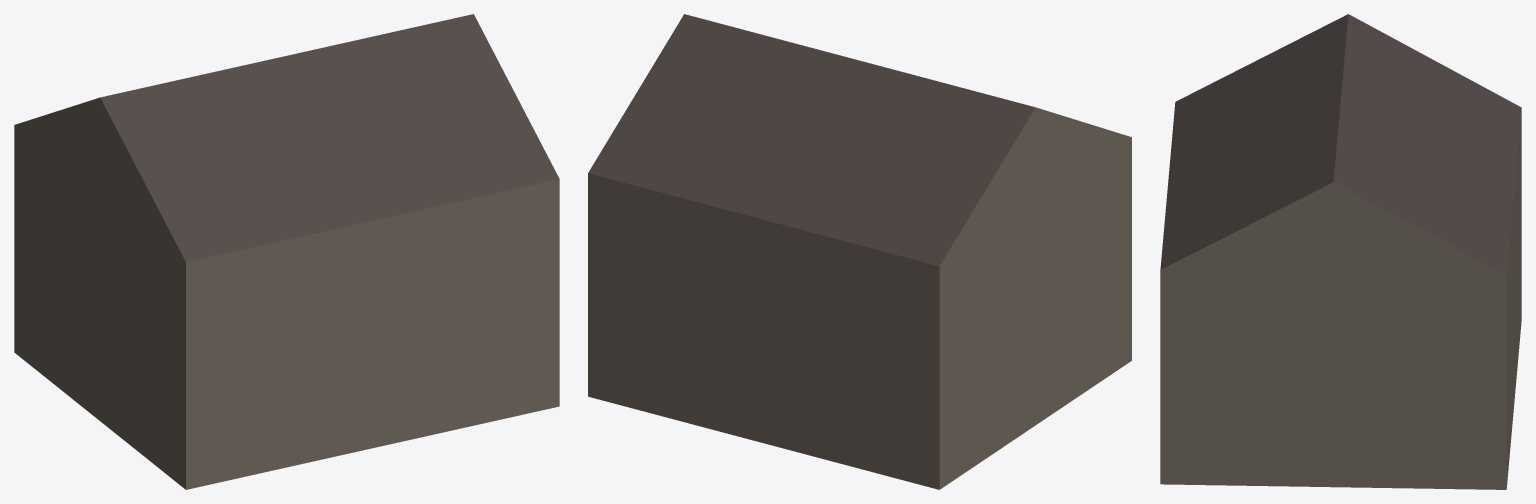
The picture shows the model from 3 angles, left to right: view 1: azimuth 30°, elevation 25°; view 2: azimuth 150°, elevation 25°; view 3: azimuth 270°, elevation 25°; orthographic projection. The views are drawn at different scales.
Visible parts, largest first — view 1: HP-w858824305; view 2: HP-w858824305; view 3: HP-w858824305.
Part boxes in pixels (bbox=[...]): HP-w858824305: bbox=[14, 14, 559, 489]; HP-w858824305: bbox=[588, 14, 1131, 489]; HP-w858824305: bbox=[1160, 14, 1521, 489].
Size of the model in its own units: 10.42 by 8.54 by 9.16.
